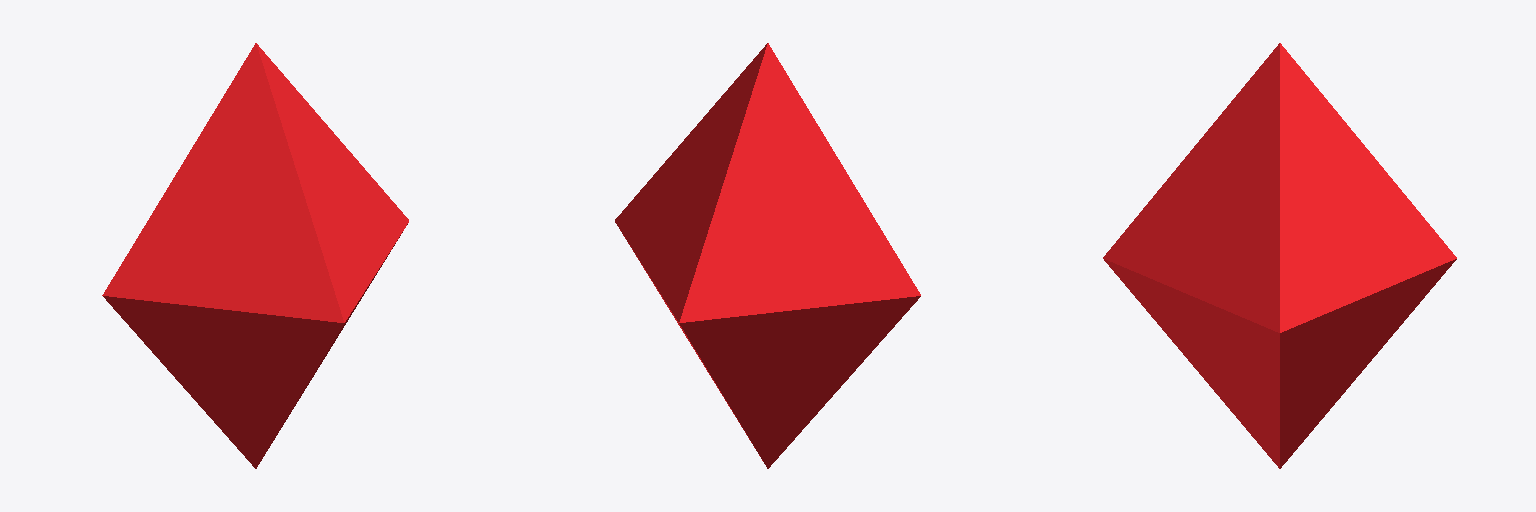
3 renders of one model, left to right at view 1: azimuth 30°, elevation 25°; view 2: azimuth 150°, elevation 25°; view 3: azimuth 270°, elevation 25°, orthographic.
Visible parts, largest first — view 1: Cube; view 2: Cube; view 3: Cube.
Part boxes in pixels (x1,y1,x2,y2): Cube: (102,43,408,468); Cube: (615,43,920,468); Cube: (1103,43,1456,468).
Bounding box in the file's own units: 2.24 × 2.97 × 2.24.
Materials: 1 (1 with a texture image).